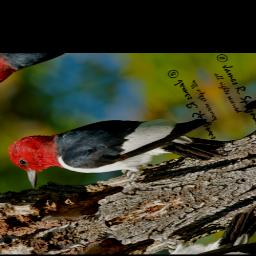Woodpecker: (0, 84, 235, 219)
